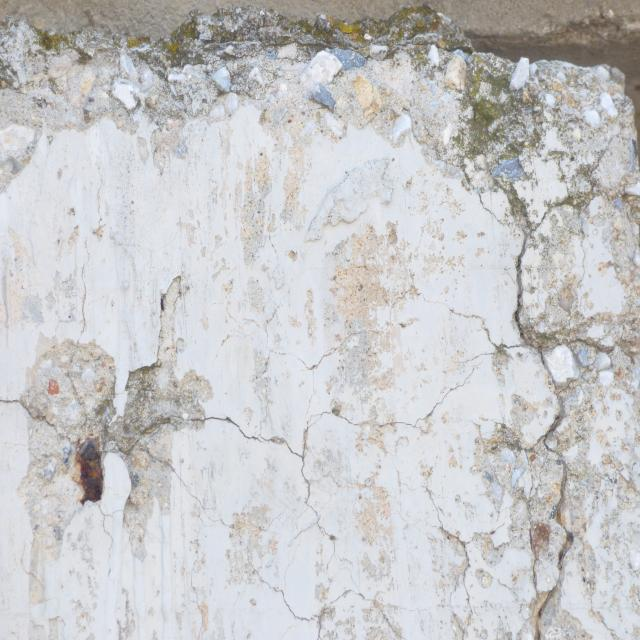corrosion: (71, 418, 120, 528)
